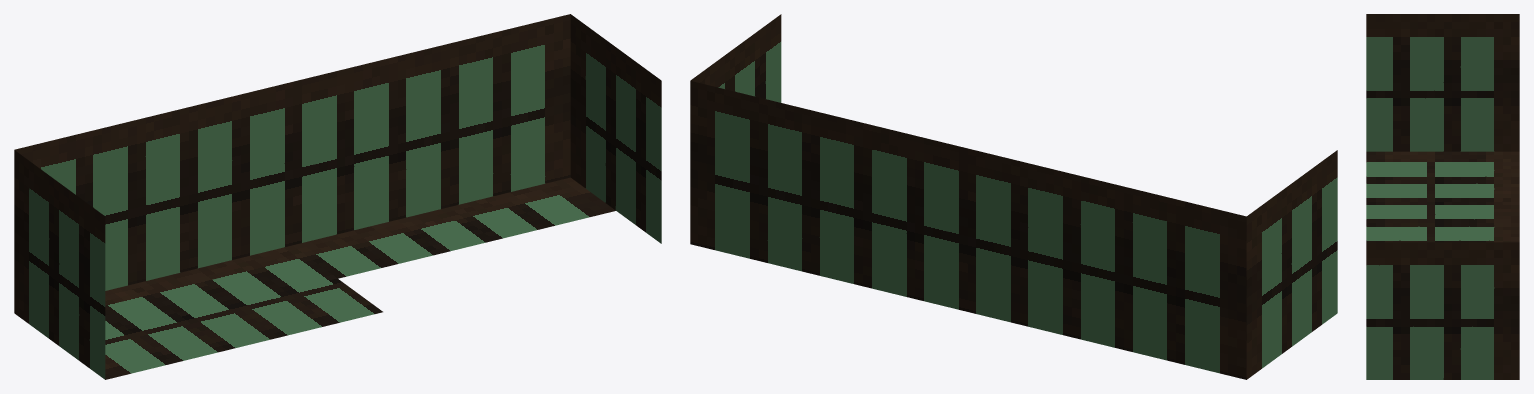
3 views of the same model, side by side, from view 1: azimuth 30°, elevation 25°; view 2: azimuth 150°, elevation 25°; view 3: azimuth 270°, elevation 25° (orthographic). The views are drawn at different scales.
Visible parts, largest first — view 1: balcony-ladder-top; view 2: balcony-ladder-top; view 3: balcony-ladder-top.
Boxes of the visible parts, x1=… form: balcony-ladder-top: x1=14, y1=14, x2=661, y2=379; balcony-ladder-top: x1=690, y1=14, x2=1337, y2=379; balcony-ladder-top: x1=1366, y1=14, x2=1519, y2=379.
Size of the model in its own units: 1 by 0.2808 by 0.2837.
1 material, 1 textured.
